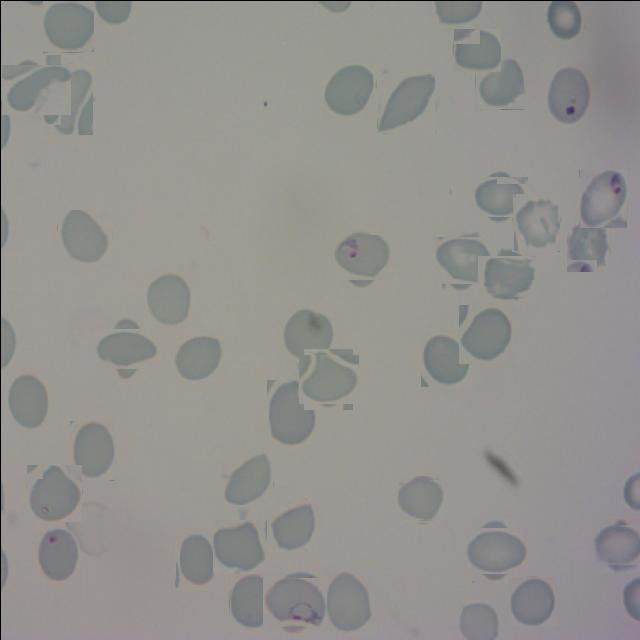leukocyte: (5, 59, 65, 119), (376, 73, 434, 133), (44, 63, 92, 134), (266, 379, 315, 448), (25, 464, 82, 520), (458, 304, 512, 363), (324, 569, 372, 634), (467, 522, 522, 577), (300, 351, 355, 406), (438, 232, 492, 287), (57, 209, 112, 263), (280, 305, 331, 363), (212, 519, 266, 573), (322, 62, 374, 118), (512, 193, 560, 251), (68, 420, 114, 480), (220, 451, 272, 504), (100, 322, 152, 374), (420, 332, 470, 386), (5, 370, 49, 430), (146, 270, 193, 326), (170, 332, 222, 382), (474, 56, 523, 109), (482, 250, 532, 301), (42, 1, 92, 52), (268, 499, 316, 551), (565, 216, 608, 272), (473, 172, 523, 220), (174, 531, 216, 588), (508, 576, 556, 625), (228, 573, 270, 628), (595, 521, 640, 569), (452, 28, 500, 72), (398, 477, 442, 520)
red blood cell: (266, 574, 322, 630), (336, 230, 389, 284), (578, 169, 626, 228)
